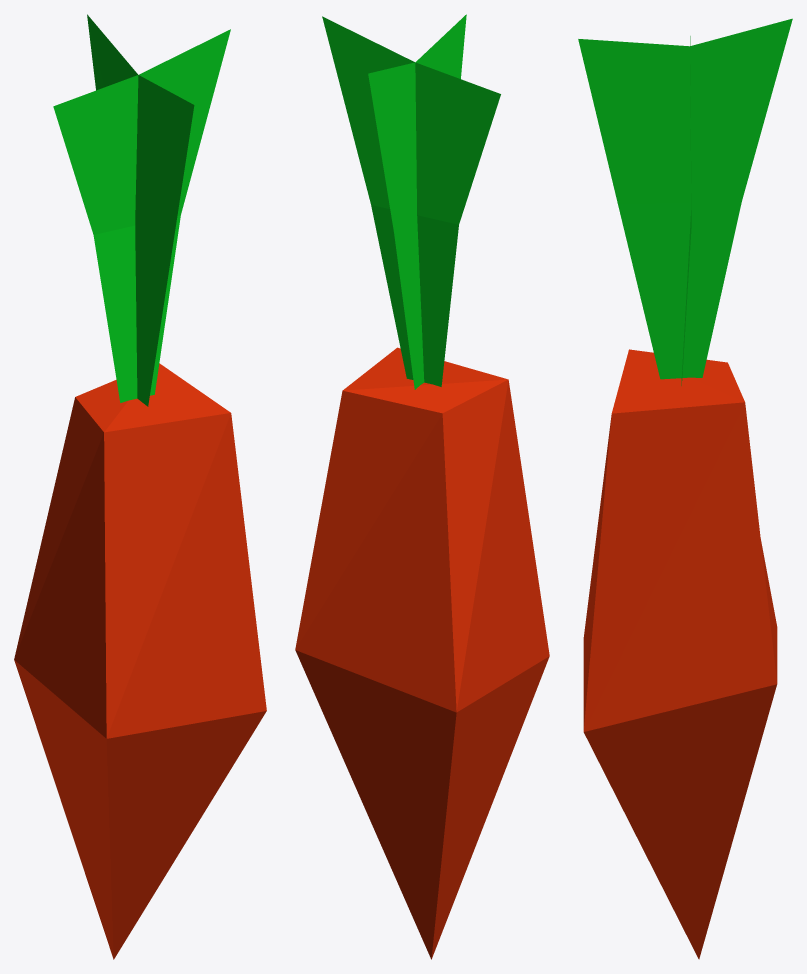
File: carrot.obj
3 renders of one model, left to right at view 1: azimuth 30°, elevation 25°; view 2: azimuth 150°, elevation 25°; view 3: azimuth 270°, elevation 25°, orthographic. The views are drawn at different scales.
Bounding box in the file's own units: 0.3269 × 1.6 × 0.3268.
